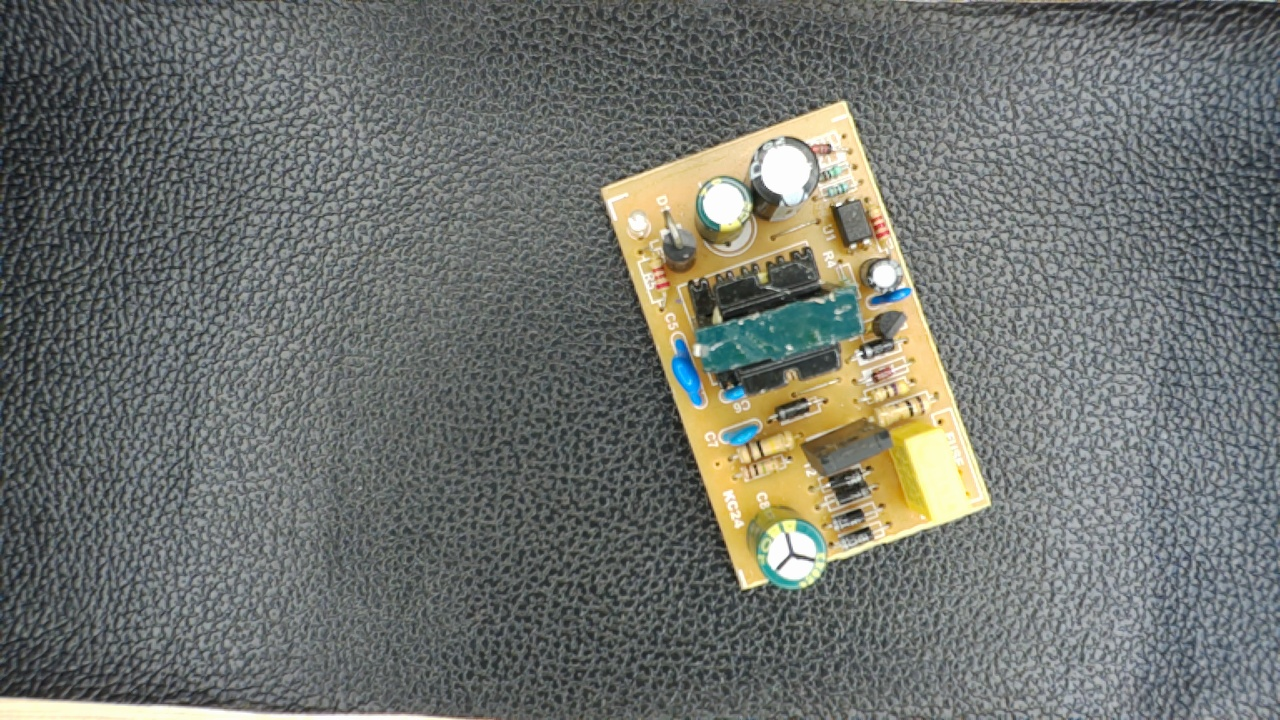hv_capacitor: (746, 504, 831, 593)
mov: (668, 332, 710, 408)
optocoupler: (827, 192, 878, 254)
